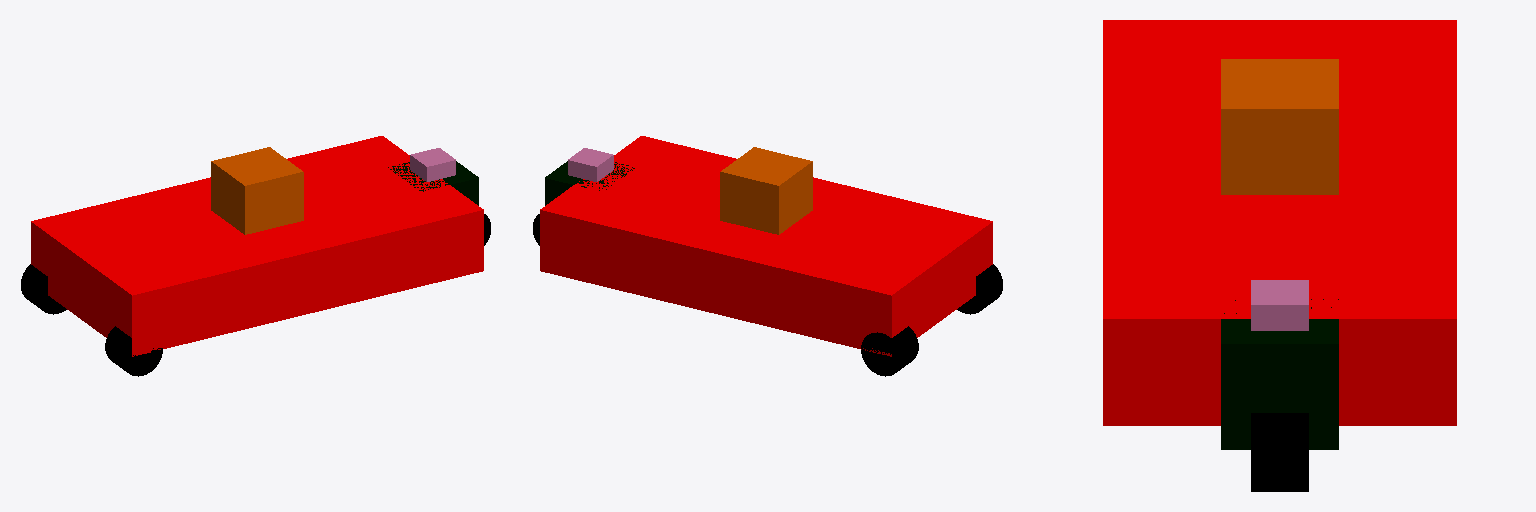
The robot description file, URDF, robot "exploration_bot":
<?xml version="1.0"?>
<robot name="exploration_bot">
<!-- <xacro:property name="camera_size" value="0.05" />  -->
    <link name="base_link">
        <visual>
            <geometry>
                <box size="0.6 0.3 0.1"/>
            </geometry>
            <material name="red">
                <color rgba="1 0.0 0.0 1"/>
            </material>
        </visual>
        <collision>
            <geometry>
                <box size="0.6 0.3 0.1"/>
            </geometry>
        </collision>
        <inertial>
            <mass value="1.0"/>
            <inertia ixx="0.015" ixy="0" ixz="0" iyy="0.0375" iyz="0.0" izz="0.0375"/>
        </inertial>
        
    </link>



    <link name="front_caster_of_wheel">
        <visual>
            <geometry>
                <box size="0.1 0.1 0.1"/>
            </geometry>
            <material name="green">
                <color rgba="0.0 0.1 0.0 1"/>   
            </material>
        </visual>
        <collision>
            <geometry>
                <box size="0.1 0.1 0.1"/>
            </geometry>
        </collision>
        <inertial>
            <mass value="0.1"/>
            <inertia ixx="0.00083" ixy="0" ixz="0" iyy="0.00083" iyz="0.0" izz="0.000167"/>
        </inertial>
    </link>
    <joint name="front_caster_of_wheel_joint" type="continuous">
       <axis xyz="0.0 0.0 1"/> 
       <parent link="base_link"/>
       <child link="front_caster_of_wheel"/>
       <origin xyz="0.3 0.0 0.0" rpy="0.0 0.0 0.0"/>
    </joint>

    <link name="front_wheel">
        <visual>
            <geometry>
                <cylinder radius="0.035" length="0.05"/>
            </geometry>
            <material name="black">
                
            </material>

        </visual>
        <collision>
            <geometry>
                <cylinder radius="0.035" length="0.05"/>
            </geometry>
        </collision>
        <inertial>
            <mass value="0.1"/>
            <inertia ixx="5.1458e-5" ixy="0" ixz="0" iyy="5.1458e-5" iyz="0.0" izz="6.125e-5"/>
        </inertial>
    </link>

    <joint name="front_wheel_joint" type="continuous">
        <axis xyz="0.0 0.0 1"/>
        <parent link="front_caster_of_wheel"/>
        <child link="front_wheel"/>
        <origin xyz="0.05 0.0 -0.05" rpy="-1.5708 0.0 0.0"/>
        
    </joint>

<link name="right_wheel">
        <visual>
            <geometry>
                <cylinder radius="0.035" length="0.05"/>
            </geometry>
            <material name="black">
                <color rgba="0.0 0.0 0.0 1"/>
            </material>

        </visual>
        <collision>
            <geometry>
                <cylinder radius="0.035" length="0.05"/>
            </geometry>
        </collision>
        <inertial>
            <mass value="0.1"/>
            <inertia ixx="5.1458e-5" ixy="0" ixz="0" iyy="5.1458e-5" iyz="0.0" izz="6.125e-5"/>        </inertial>
    </link>

    <joint name="right_wheel_joint" type="continuous">
        <axis xyz="0.0 0.0 1"/>
        <parent link="base_link"/>
        <child link="right_wheel"/>
        <origin xyz="-0.2825 -0.125 -0.05" rpy="-1.5708 0.0 0.0"/>
        
    </joint>
    <link name="left_wheel">
        <visual>
            <geometry>
                <cylinder radius="0.035" length="0.05"/>
            </geometry>
            <material name="black">
                <color rgba="0.0 0.0 0.0 1"/>
            </material>

        </visual>
        <collision>
            <geometry>
                <cylinder radius="0.035" length="0.05"/>
            </geometry>
        </collision>
        <inertial>
            <mass value="0.1"/>
            <inertia ixx="5.1458e-5" ixy="0" ixz="0" iyy="5.1458e-5" iyz="0.0" izz="6.125e-5"/>        </inertial>
    </link>

    <joint name="left_wheel_joint" type="continuous">
        <axis xyz="0.0 0.0 1"/>
        <parent link="base_link"/>
        <child link="left_wheel"/>
        <origin xyz="-0.2825 0.125 -0.05" rpy="-1.5708 0.0 0.0"/>
        
    </joint>


    <link name="laser_scanner">
        <visual>
            <geometry>
                <box size="0.1 0.1 0.1"/>
            </geometry>
        </visual>

        <collision>
            <geometry>
                <box size="0.1 0.1 0.1"/>
            </geometry>
        </collision>

        <inertial>
            <mass value="1e-5"/>
            <inertia ixx="1e-6" ixy="0" ixz="0.0" iyy="1e-6" iyz="0.0" izz="1e-6"/>
        </inertial>
    </link>

    <joint name="laser_scanner_joint" type="fixed">
        <axis xyz="0.0 1 0.0"/>
        <parent link="base_link"/>
        <child link="laser_scanner"/>
        <origin xyz="0.0 0.0 0.08" rpy="0.0 0.0 0.0"/>
    </joint>

  <joint name="camera_joint" type="fixed">
    <axis xyz="0 1 0" />
    <origin xyz="0.3 0.0 0.05" rpy="0 0 0"/>
    <parent link="base_link"/>
    <child link="camera_link"/>
  </joint>

  <!-- Camera -->
  <link name="camera_link">
    <collision>
      <origin xyz="0 0 0" rpy="0 0 0"/>
      <geometry>
    <!-- <box size="${camera_size} ${camera_size} ${camera_size}"/> -->
    <box size="0.05 0.05 0.05"/>
      </geometry>
    </collision>

    <visual>
      <origin xyz="0 0 0" rpy="0 0 0"/>
      <geometry>
    <!-- <box size="${camera_size} ${camera_size} ${camera_size}"/> -->
        <box size="0.05 0.05 0.05"/>
      </geometry>
      <material name="white"/>
    </visual>

    <inertial>
      <mass value="1e-5" />
      <origin xyz="0 0 0" rpy="0 0 0"/>
      <inertia ixx="1e-6" ixy="0" ixz="0" iyy="1e-6" iyz="0" izz="1e-6" />
    </inertial>
  </link>

  <!-- camera -->
  <gazebo reference="camera_link">
    <sensor type="camera" name="camera1">
    <pose>0 0 0 0 0 0</pose>
    <visualize>true</visualize>
      <update_rate>30.0</update_rate>
      <camera name="head">
        <horizontal_fov>1.3962634</horizontal_fov>
        <image>
          <width>640</width>
          <height>480</height>
          <format>R8G8B8</format>
        </image>
        <clip>
          <near>0.02</near>
          <far>300</far>
        </clip>
        <noise>
          <type>gaussian</type>
          <!-- Noise is sampled independently per pixel on each frame.
               That pixel's noise value is added to each of its color
               channels, which at that point lie in the range [0,1]. -->
          <mean>0.0</mean>
          <stddev>0.007</stddev>
        </noise>
      </camera>
      <plugin name="camera_controller" filename="libgazebo_ros_camera.so">
        <alwaysOn>true</alwaysOn>
        <updateRate>0.0</updateRate>
        <cameraName>rrbot/camera1</cameraName>
        <imageTopicName>image_raw</imageTopicName>
        <cameraInfoTopicName>camera_info</cameraInfoTopicName>
        <frameName>camera_link</frameName>
        <hackBaseline>0.07</hackBaseline>
        <distortionK1>0.0</distortionK1>
        <distortionK2>0.0</distortionK2>
        <distortionK3>0.0</distortionK3>
        <distortionT1>0.0</distortionT1>
        <distortionT2>0.0</distortionT2>
      </plugin>
    </sensor>
  </gazebo>

    <gazebo reference="laser_scanner">
        <sensor type="ray" name="laser">
            <pose>0 0 0 0 0 0</pose>
            <visualize>true</visualize>
            <update_rate>40</update_rate>
            <ray>
                <scan>
                    <horizontal>
                        <samples>720</samples>
                        <resolution>1</resolution>
                        <min_angle>-1.578</min_angle>
                        <max_angle>1.578</max_angle>
                    </horizontal>
                </scan>
                <range>
                    <min>0.1</min>
                    <max>10</max>
                    <resolution>0.1</resolution>
                </range>
            </ray>
            <plugin name="Lidar" filename="libgazebo_ros_laser.so">
                <topicName>/scan</topicName>
                <frameName>laser_scanner</frameName>
            </plugin>
        </sensor>
    </gazebo>


    <gazebo>
        <plugin name="explorer_bot_controller"   filename="libgazebo_ros_diff_drive.so">
            <leftJoint>left_wheel_joint</leftJoint>
            <rightJoint>right_wheel_joint</rightJoint>
            <legacyMode>false</legacyMode>
            <robotBaseFrame>base_link</robotBaseFrame>
            <wheelSeparation>0.25</wheelSeparation>
            <wheelDiameter>0.07</wheelDiameter>
            <publishWheelJointState>true</publishWheelJointState>
        </plugin>
        
    </gazebo>
       <gazebo>
        <plugin name="joint_state_publisher"
                filename="libgazebo_ros_joint_state_publisher.so">
            <jointName>front_caster_of_wheel_joint, front_wheel_joint</jointName>
        </plugin>
    </gazebo>


   


    <gazebo reference="base_link">
        <material>Gazebo/Orange</material>
    </gazebo>

    <gazebo reference="front_caster_of_wheel">
        <material>Gazebo/Red</material>
      </gazebo>
      <gazebo reference="front_wheel">
        <material>Gazebo/Black</material>
      </gazebo>
      <gazebo reference="left_wheel">
        <material>Gazebo/Black</material>
      </gazebo>
      <gazebo reference="right_wheel">
        <material>Gazebo/Black</material>
      </gazebo>




    </robot>

--- Render facts (derived) ---
Views: 3 orthographic renders of the robot side by side, from view 1: azimuth 30°, elevation 25°; view 2: azimuth 150°, elevation 25°; view 3: azimuth 270°, elevation 25°.
Robot: exploration_bot — 7 links, 6 joints (4 continuous, 2 fixed); root link base_link; default pose: all joints at 0.
Visible links, largest first — view 1: base_link, laser_scanner, right_wheel, camera_link, left_wheel, front_caster_of_wheel; view 2: base_link, laser_scanner, left_wheel, camera_link, right_wheel, front_caster_of_wheel; view 3: base_link, laser_scanner, front_caster_of_wheel, front_wheel, camera_link.
Boxes of the visible links, x1,y1,x2,y2 form: base_link: (31,136,483,356); laser_scanner: (211,147,303,234); right_wheel: (105,326,162,376); camera_link: (410,148,455,181); left_wheel: (21,264,66,314); front_caster_of_wheel: (388,161,478,205); base_link: (540,136,992,356); laser_scanner: (720,147,812,234); left_wheel: (861,326,918,376); camera_link: (568,148,613,181); right_wheel: (957,264,1002,314); front_caster_of_wheel: (545,161,634,205); base_link: (1103,20,1456,425); laser_scanner: (1221,59,1338,194); front_caster_of_wheel: (1221,299,1338,449); front_wheel: (1251,413,1308,491); camera_link: (1251,280,1308,330).
Bounding box of the posed robot: 0.7025 × 0.3 × 0.215 m (x, y, z).
Geometry: primitives only (box / cylinder / sphere), no mesh files.
